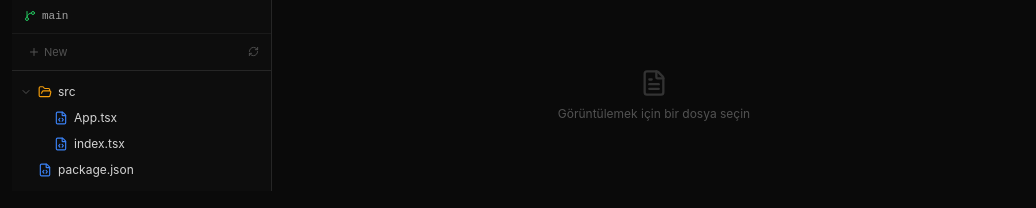
FileExplorer — dosya agaci › dosyaya tiklaninca dosya viewer acilmali
This screenshot has width=1036, height=208.
Agac dugumundeki ilk package.json elementi
Click the button "package.json".
click(142, 170)  # box [12, 157, 271, 183]
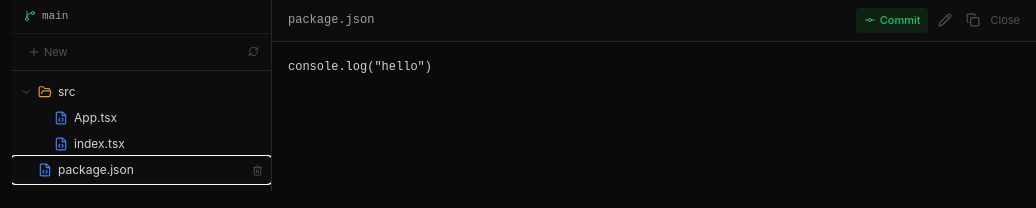
Result: the button "Close" is shown at [990, 12, 1020, 28]
